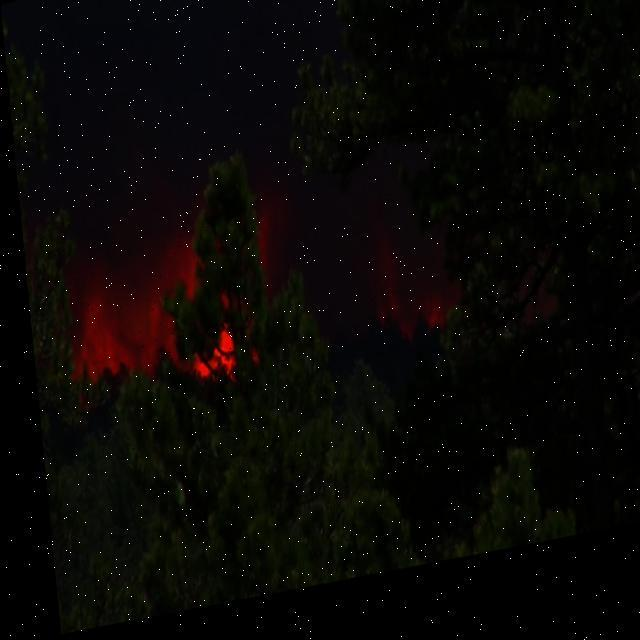Fire: (72, 224, 280, 414), (354, 241, 466, 359)
